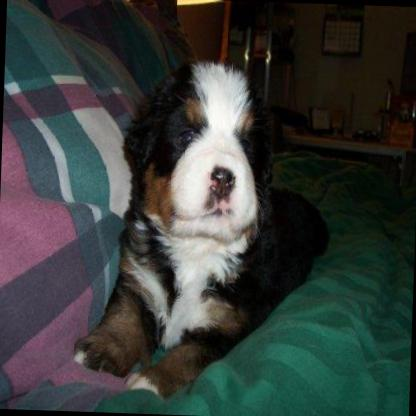Bernese_mountain_dog: (72, 56, 332, 402)
